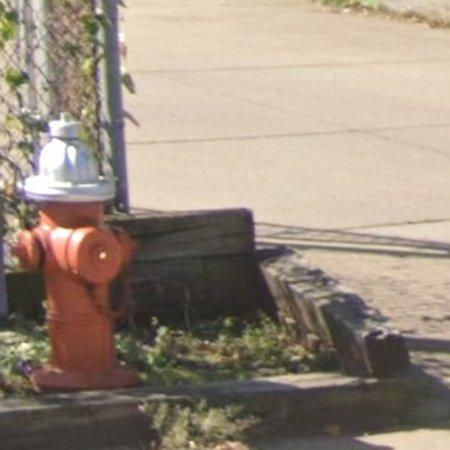a fire hydrant: (15, 113, 136, 392)
